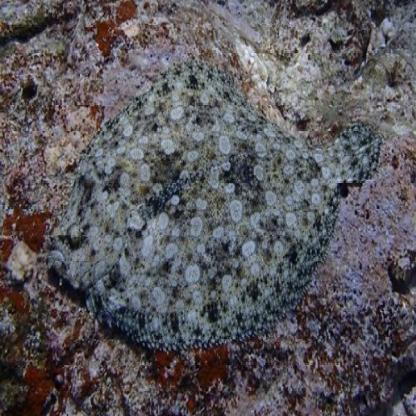flounder: (45, 61, 383, 354)
